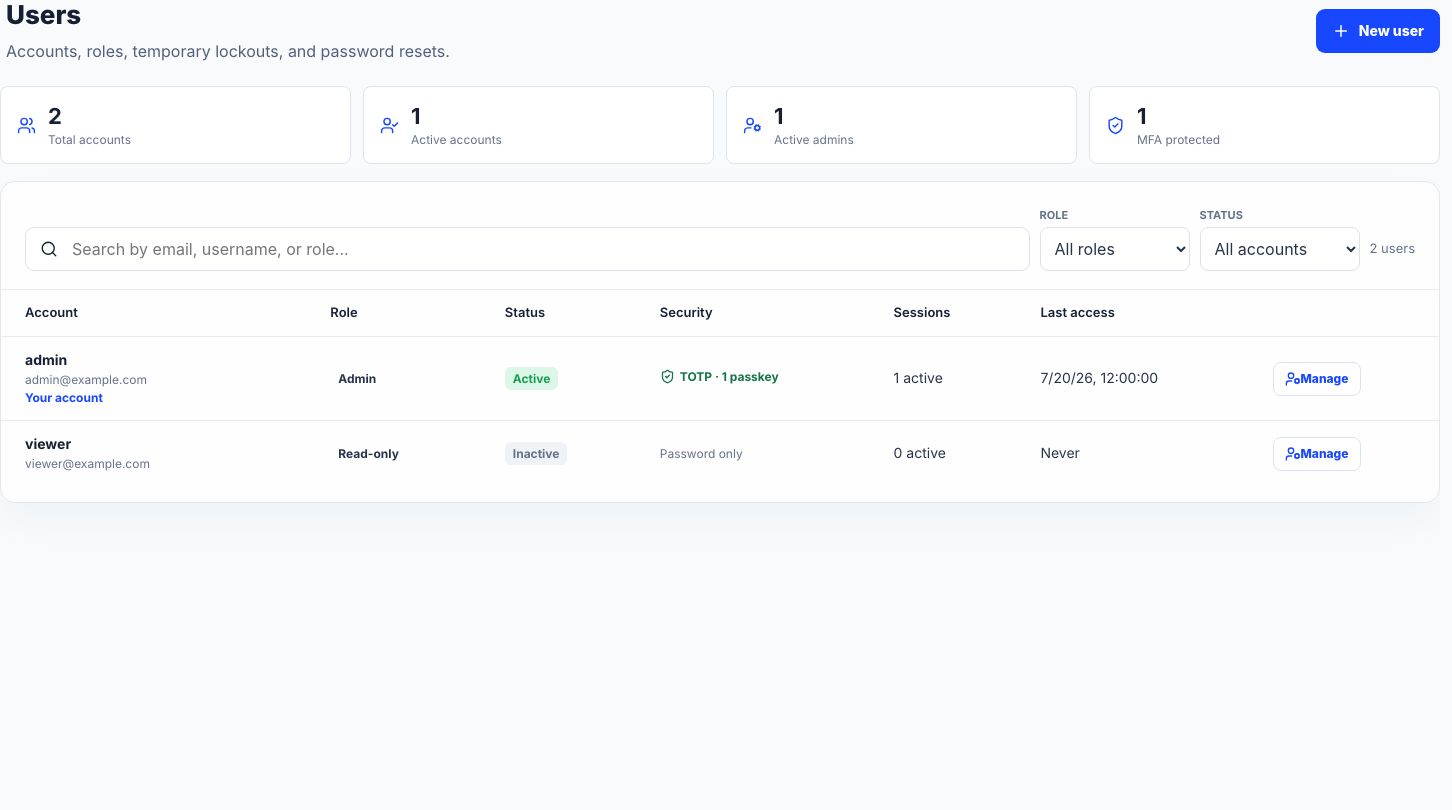
Test: UsersView › keeps only sessions from the latest selected user
Click the button "Manage" in the row of "admin@example.com" at coordinates (1316, 378), box [1272,362,1360,396]
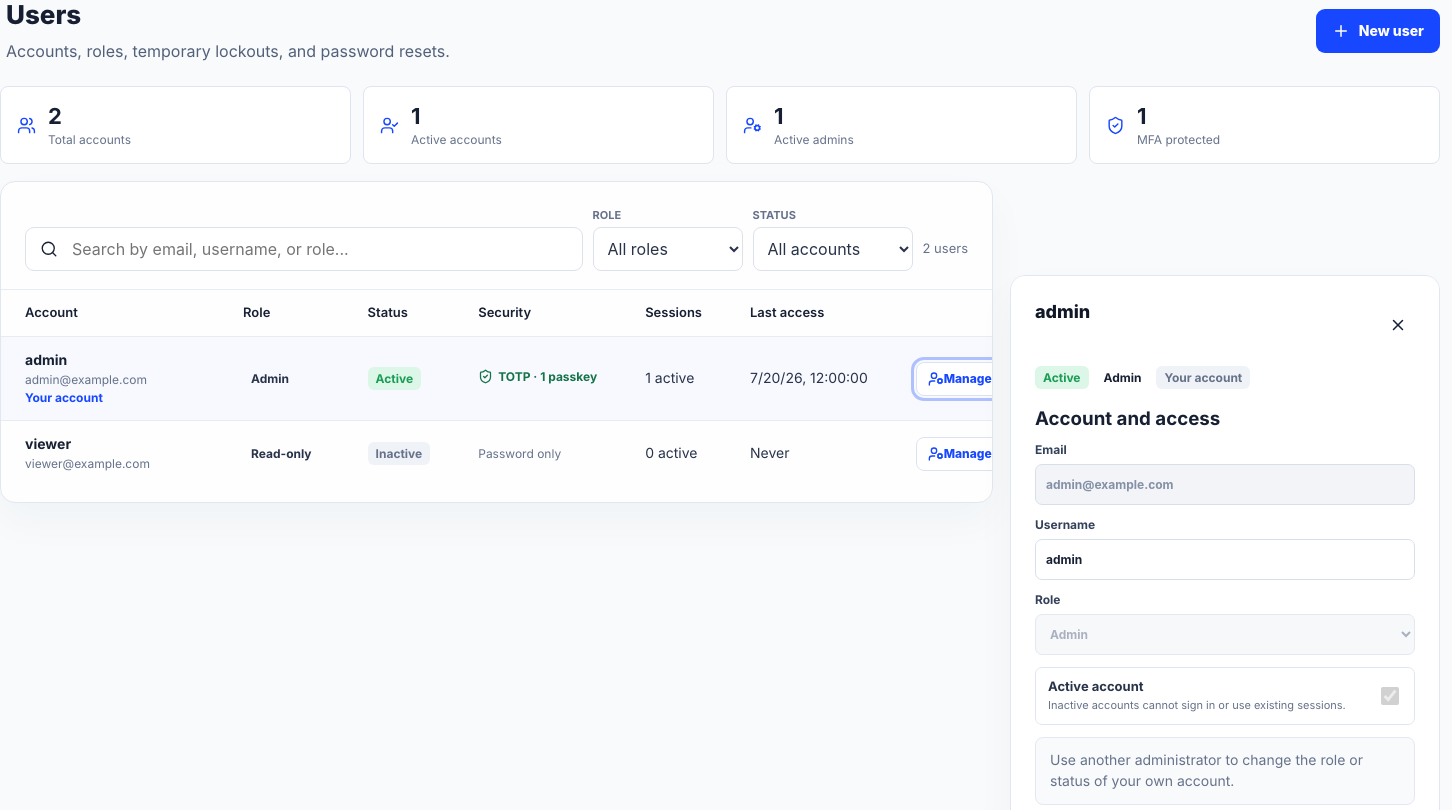
Click the button "Manage" in the row of "viewer@example.com" at coordinates (960, 454), box [916,436,1004,470]
(page scrolled)
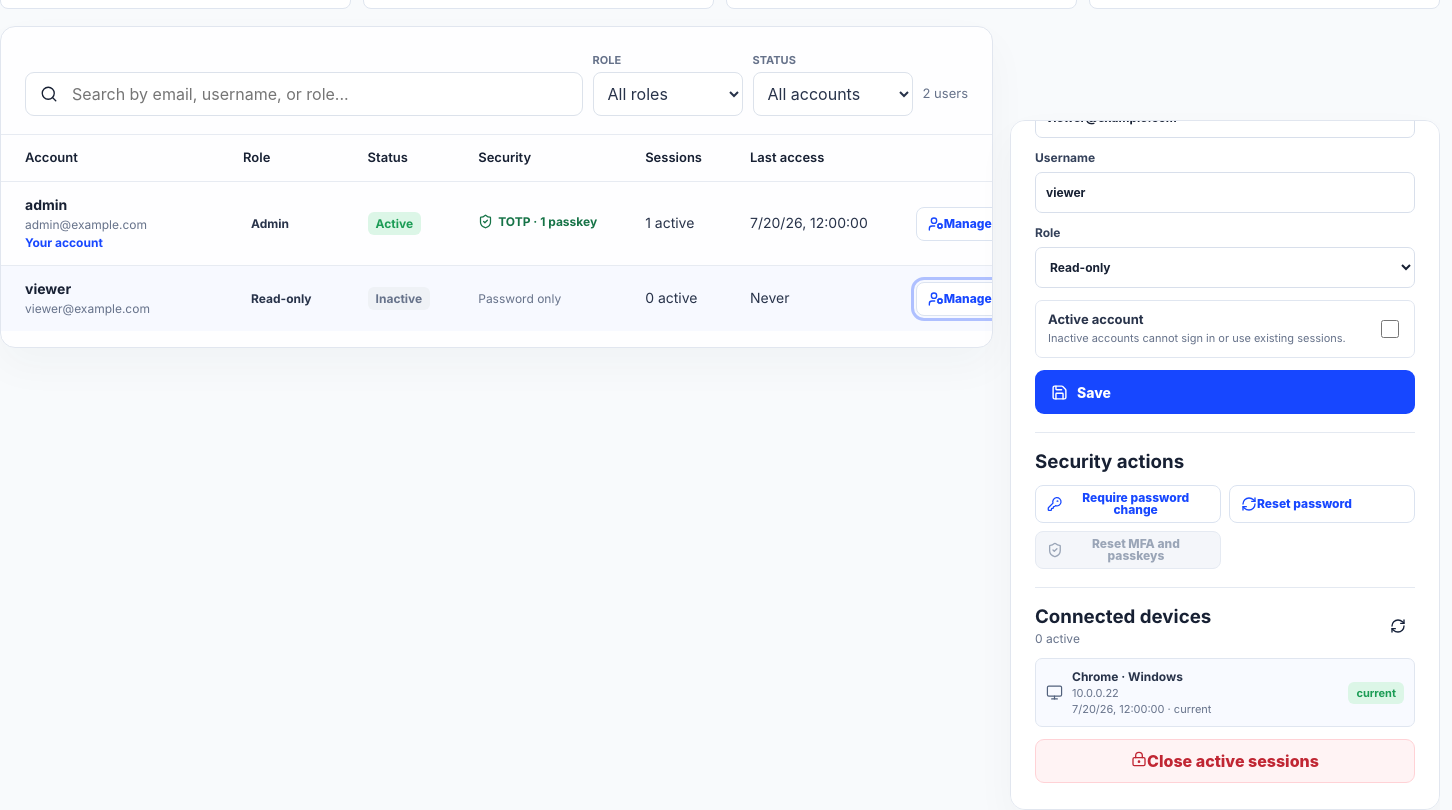
Expected: the text "10.0.0.22" is shown, [1072,686,1119,700]
